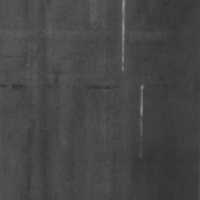scratches: (137, 82, 148, 159), (118, 0, 129, 74)
